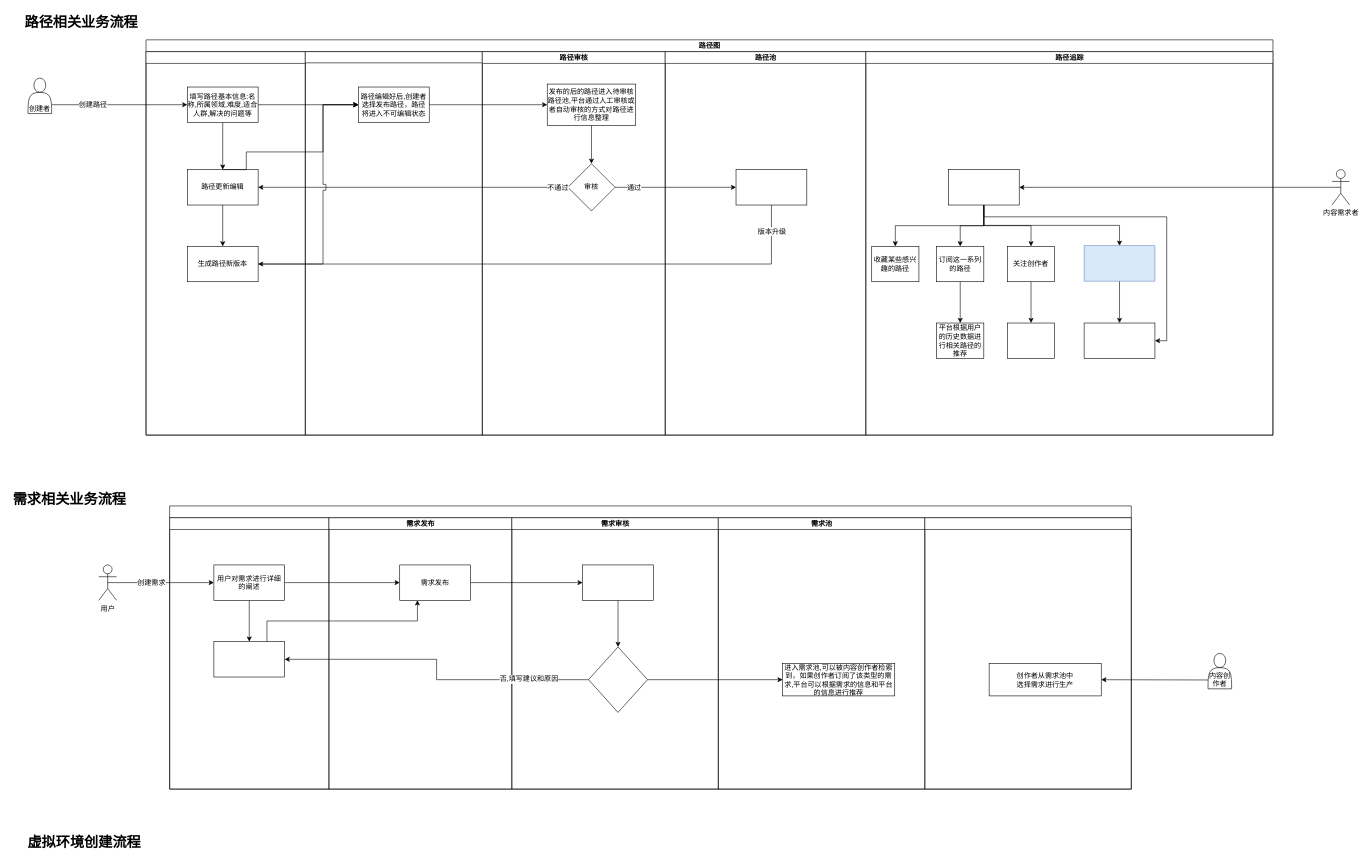
Some shapes in this 1368 by 864 pixel diagram are drawn without their labels. Each missing label, with the box of its shape:
从路径池中选择follow某些路径: (948, 169, 1019, 205)
出现在我关注的人列表中,同时出现在创作者fans列表中: (1007, 322, 1055, 358)
对路径进行提问issue: (1084, 322, 1155, 358)
平台对需求进行审核，并对需求的质量,论述进行评分,分类，质量较好的: (582, 564, 653, 600)
是否达到发布标准: (588, 646, 648, 712)
路径发布: (305, 51, 482, 435)
路径生产: (924, 517, 1131, 789)
路径编辑: (145, 51, 305, 435)
进入路径学习流程: (1084, 245, 1155, 281)
进入路径池,可被用户搜索,也可以被平台推荐: (735, 169, 807, 205)
需求业务图: (169, 505, 1131, 789)
需求内容更新: (213, 641, 285, 677)
需求创建: (169, 517, 329, 789)
